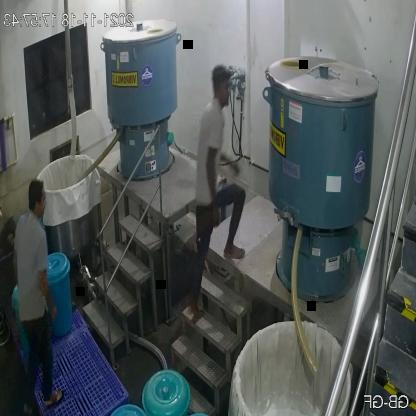no_shoes: (223, 239, 249, 262), (43, 387, 63, 409)
